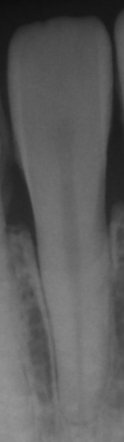tooth: (10, 20, 108, 416)
